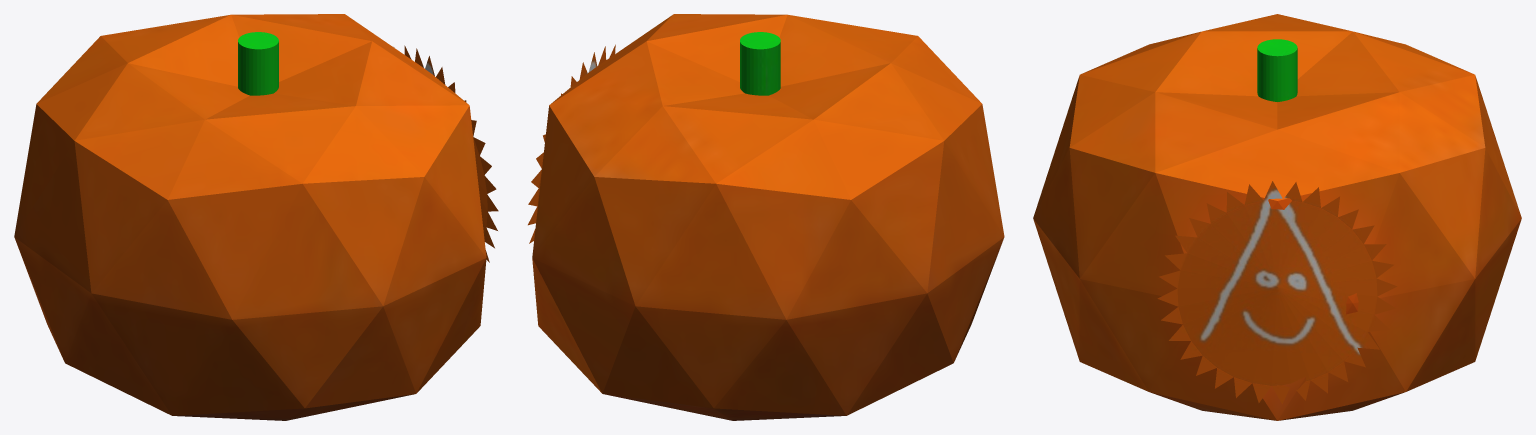
The model's file is alt-pumkin.dae.
3 views of the same model, side by side, from view 1: azimuth 30°, elevation 25°; view 2: azimuth 150°, elevation 25°; view 3: azimuth 270°, elevation 25° (orthographic). The views are drawn at different scales.
Parts seen in each view (by area): view 1: Icosphere; view 2: Icosphere; view 3: Icosphere.
Part boxes in pixels (x1,y1,x2,y2): Icosphere: (14,14,498,420); Icosphere: (528,14,1004,420); Icosphere: (1033,14,1521,420).
Size of the model in its own units: 0.1943 by 0.2117 by 0.1545.
Materials: 1 (1 with a texture image).
